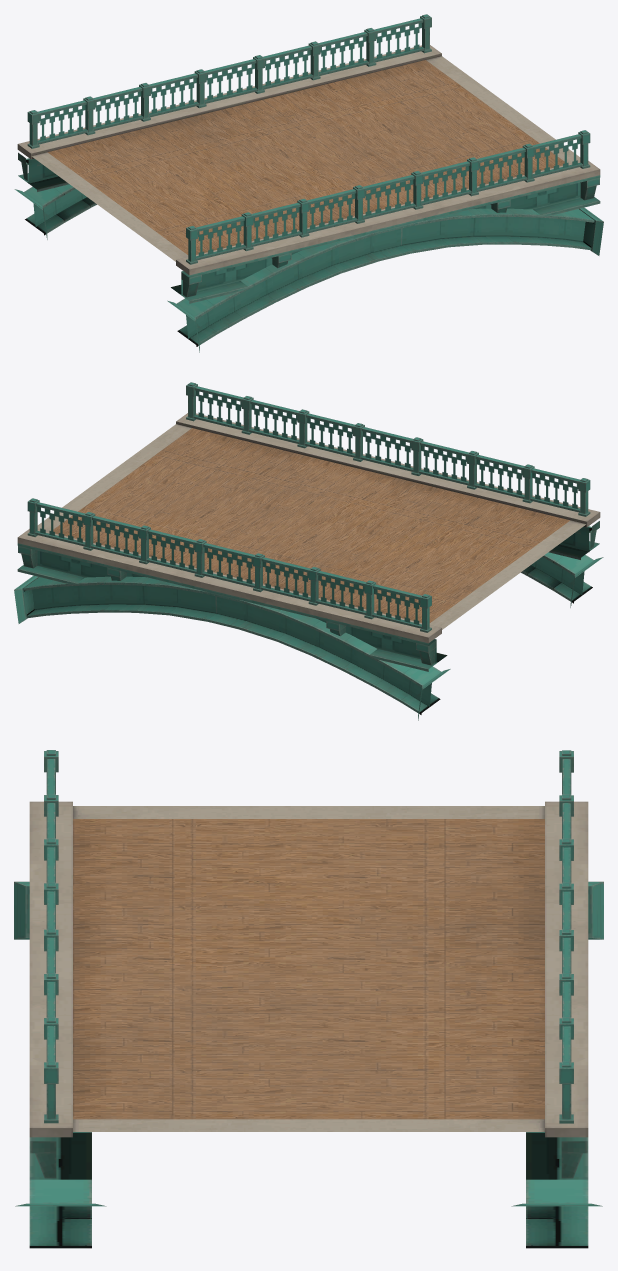
File: t1_b_steel_bridge_d.glb
3 views of the same model, one above another, from view 1: azimuth 30°, elevation 25°; view 2: azimuth 150°, elevation 25°; view 3: azimuth 270°, elevation 25° (orthographic). The views are drawn at different scales.
Parts seen in each view (by area): view 1: um_t1_b_steel_bridge_d_model_t1_b_steel_bridge_d_modelShape; view 2: um_t1_b_steel_bridge_d_model_t1_b_steel_bridge_d_modelShape; view 3: um_t1_b_steel_bridge_d_model_t1_b_steel_bridge_d_modelShape.
Boxes of the visible parts, bbox=[...] form: um_t1_b_steel_bridge_d_model_t1_b_steel_bridge_d_modelShape: bbox=[14, 14, 603, 352]; um_t1_b_steel_bridge_d_model_t1_b_steel_bridge_d_modelShape: bbox=[14, 382, 603, 720]; um_t1_b_steel_bridge_d_model_t1_b_steel_bridge_d_modelShape: bbox=[14, 750, 603, 1248].
Bounding box in the file's own units: 11.16 × 3.04 × 8.53.
Materials: 2 (2 with a texture image).
